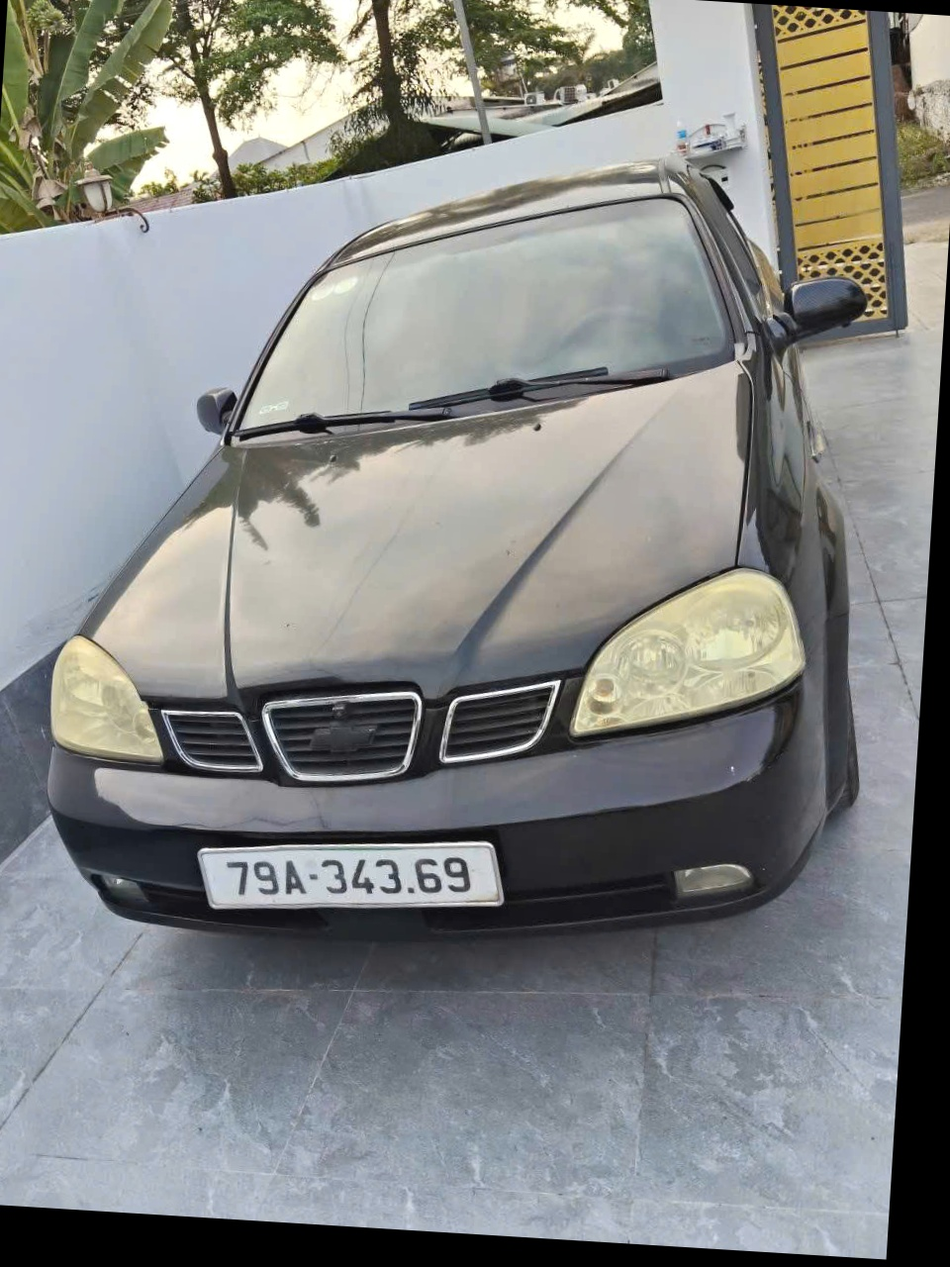Bien-so: (195, 832, 501, 936)
